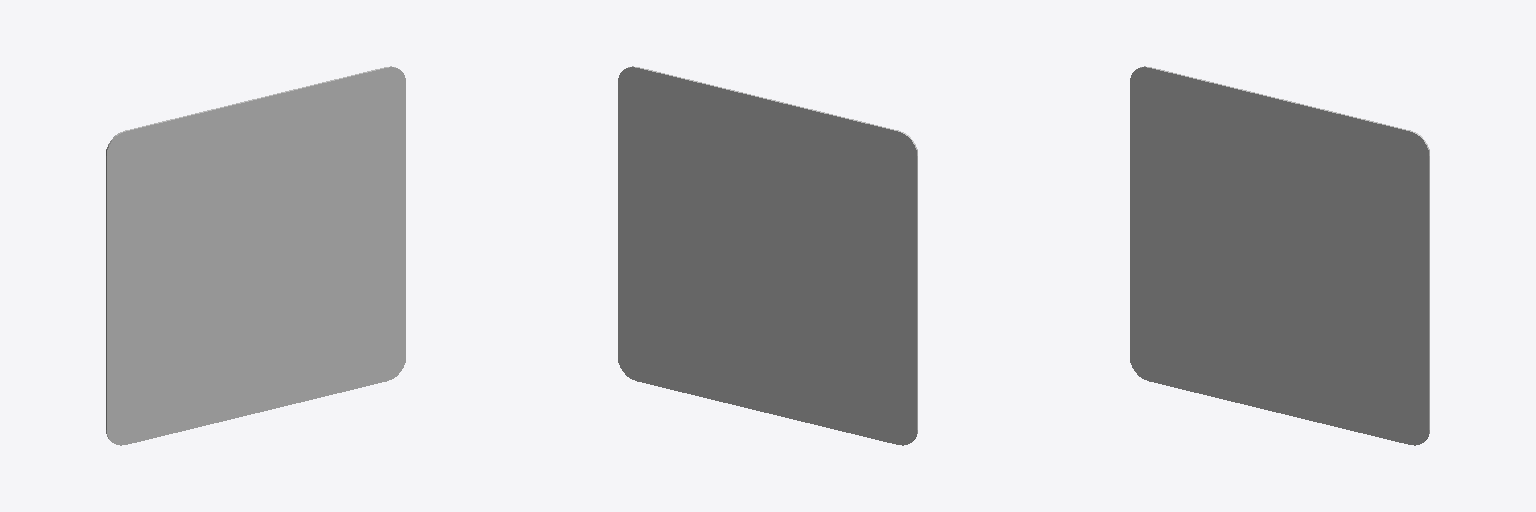
The model's file is original-6.obj.
The picture shows the model from 3 angles: view 1: azimuth 30°, elevation 25°; view 2: azimuth 150°, elevation 25°; view 3: azimuth 330°, elevation 25°; orthographic projection.
Visible parts, largest first — view 1: group_0/ID4#ID4; view 2: group_0/ID4#ID4; view 3: group_0/ID4#ID4.
Boxes of the visible parts, x1,y1,x2,y2 form: group_0/ID4#ID4: [106, 66, 405, 445]; group_0/ID4#ID4: [618, 66, 917, 445]; group_0/ID4#ID4: [1130, 66, 1429, 445].
Bounding box in the file's own units: 1.45 × 1.45 × 0.0093.